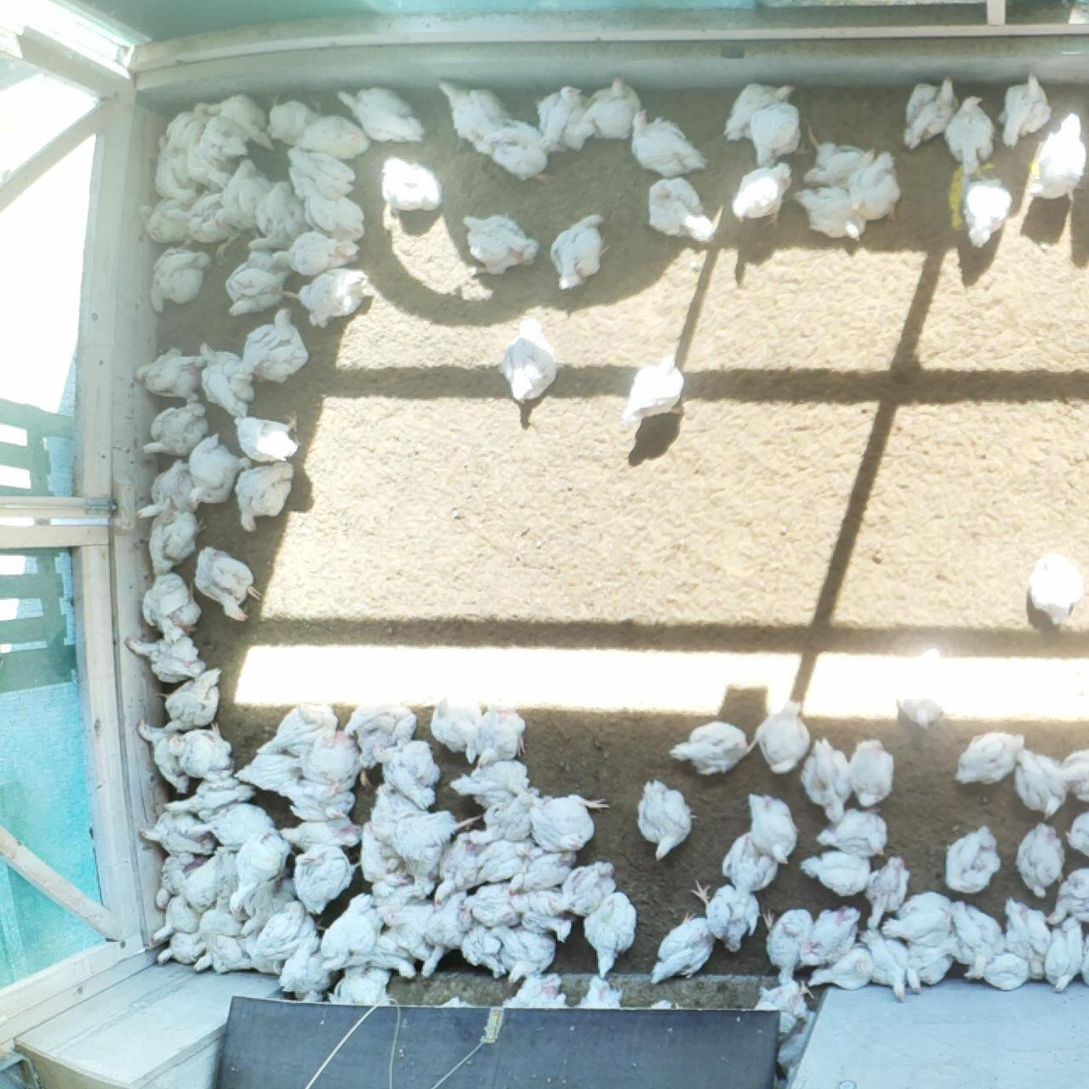chicken: (366, 805, 483, 887), (226, 827, 296, 918), (231, 305, 311, 384), (474, 115, 558, 190), (288, 840, 364, 920), (496, 313, 562, 405), (717, 827, 783, 918), (157, 190, 246, 257), (628, 107, 709, 180), (546, 208, 615, 292), (330, 87, 427, 146), (893, 639, 953, 734), (343, 695, 420, 769), (691, 877, 764, 955), (369, 731, 440, 811), (568, 72, 646, 144), (186, 426, 252, 510), (618, 348, 690, 425), (191, 544, 261, 623), (1030, 110, 1089, 203), (645, 907, 714, 986), (942, 903, 1008, 985), (631, 779, 696, 862), (526, 791, 609, 856), (581, 887, 639, 979), (462, 209, 539, 278), (254, 701, 339, 763), (144, 241, 212, 318), (275, 925, 338, 1008), (231, 457, 298, 534), (318, 893, 385, 969), (1025, 547, 1088, 627), (900, 74, 962, 155), (214, 152, 280, 228), (134, 394, 212, 458), (295, 267, 373, 331), (161, 774, 257, 826), (222, 408, 305, 468), (792, 905, 867, 971), (801, 734, 856, 824), (467, 783, 543, 848), (249, 899, 326, 963), (129, 342, 208, 404), (644, 175, 712, 247), (137, 570, 203, 644), (134, 719, 196, 797), (438, 76, 509, 144), (299, 727, 372, 793), (796, 178, 871, 242), (237, 866, 300, 942), (420, 889, 473, 979), (448, 759, 533, 815), (951, 727, 1029, 788), (956, 174, 1016, 253), (723, 81, 798, 144), (533, 84, 595, 160), (179, 801, 279, 848), (132, 458, 202, 525), (245, 178, 311, 249), (194, 340, 254, 418), (188, 891, 243, 976), (144, 505, 207, 579), (844, 147, 904, 224), (999, 897, 1051, 985), (815, 803, 890, 864), (1010, 743, 1071, 818), (750, 93, 810, 169), (754, 697, 811, 777), (121, 630, 207, 683), (161, 666, 225, 737), (224, 249, 287, 321), (274, 228, 361, 280), (941, 820, 1002, 894), (1013, 820, 1068, 902), (668, 721, 751, 775), (944, 93, 996, 179), (801, 132, 878, 190), (998, 68, 1053, 149), (883, 889, 962, 945), (428, 830, 484, 909), (180, 122, 243, 192), (291, 111, 372, 164), (751, 978, 817, 1043), (730, 162, 794, 229), (746, 788, 800, 867), (165, 722, 236, 782), (841, 737, 896, 814), (138, 807, 215, 862), (279, 807, 367, 855), (195, 94, 274, 147), (473, 698, 531, 770), (765, 902, 817, 982), (367, 780, 425, 851), (797, 848, 877, 898), (862, 852, 912, 932), (506, 846, 582, 898), (508, 887, 577, 944), (283, 144, 359, 195), (368, 867, 437, 923), (297, 180, 363, 238), (502, 917, 557, 986), (859, 925, 907, 1004), (358, 815, 408, 890), (430, 693, 481, 766), (901, 936, 963, 996), (178, 847, 231, 917), (1041, 915, 1087, 995), (147, 133, 198, 205), (382, 901, 440, 964), (554, 858, 620, 912), (193, 926, 262, 977), (363, 916, 417, 981), (327, 962, 397, 1012), (262, 93, 328, 146), (381, 155, 442, 212), (471, 838, 538, 889), (157, 96, 209, 160), (282, 779, 356, 823), (151, 849, 201, 914), (773, 1010, 818, 1082), (807, 940, 875, 987), (232, 751, 306, 794), (967, 946, 1034, 993), (149, 889, 205, 945), (497, 970, 569, 1013), (135, 195, 198, 243), (192, 111, 251, 161), (459, 883, 527, 925), (459, 918, 505, 980), (1042, 862, 1089, 921), (155, 924, 209, 969), (1056, 743, 1089, 802), (574, 974, 624, 1010), (1063, 807, 1089, 857)
